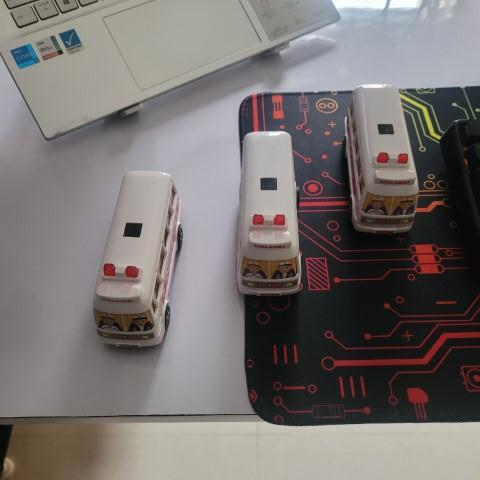ambulance: (81, 162, 190, 360), (230, 122, 313, 300), (339, 75, 424, 242)
